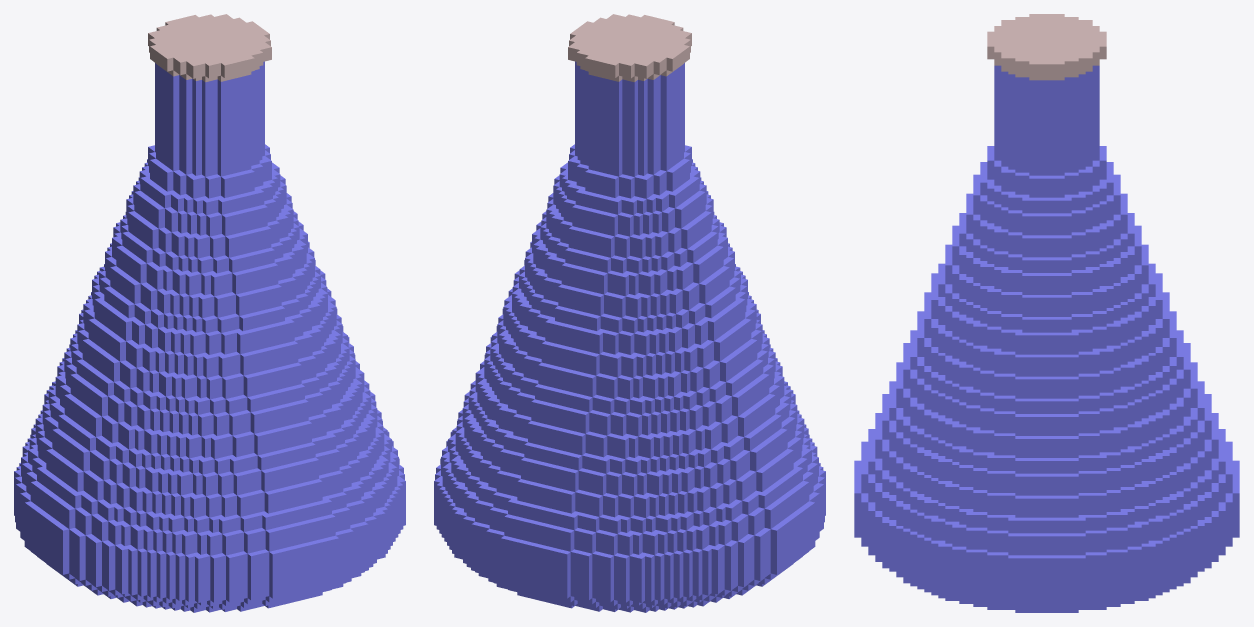
The model's file is Flask3-7-1.fbx.
3 renders of one model, left to right at view 1: azimuth 30°, elevation 25°; view 2: azimuth 150°, elevation 25°; view 3: azimuth 270°, elevation 25°, orthographic.
Parts seen in each view (by area): view 1: Flask3-7.001, Flask3-7; view 2: Flask3-7.001, Flask3-7; view 3: Flask3-7.001, Flask3-7.
Part boxes in pixels (x1,y1,x2,y2): Flask3-7.001: [14, 61, 405, 612]; Flask3-7: [148, 14, 271, 82]; Flask3-7.001: [434, 61, 825, 612]; Flask3-7: [568, 14, 691, 82]; Flask3-7.001: [854, 65, 1239, 612]; Flask3-7: [987, 14, 1106, 80].
Size of the model in its own units: 5.5 by 7.9 by 5.5.
